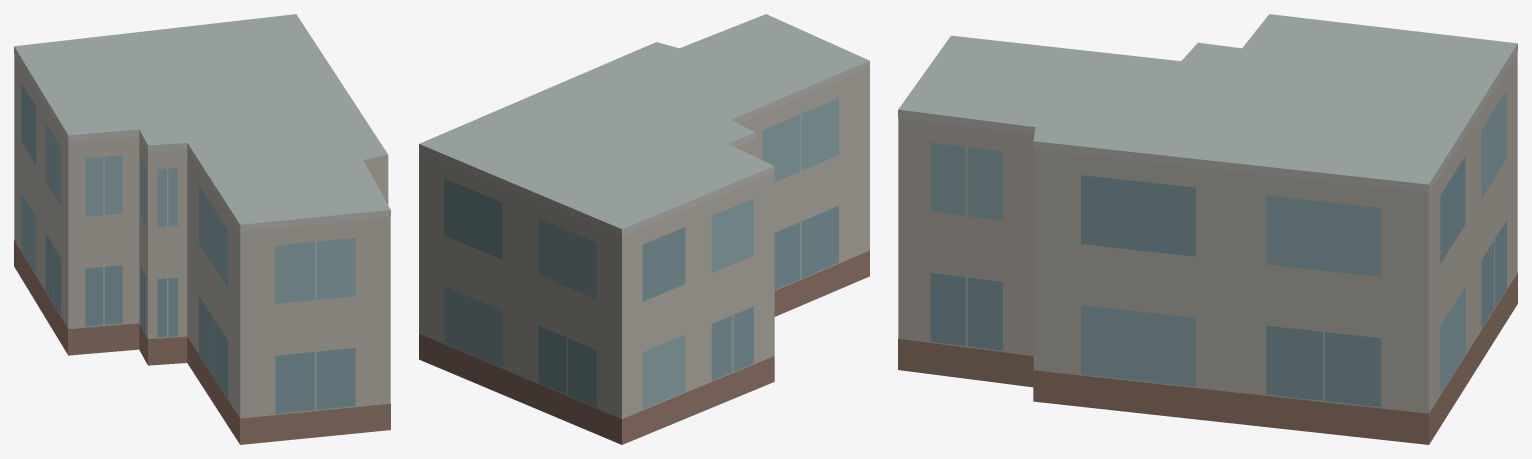
Rendered from survey-upis-32499124.glb.
3 renders of one model, left to right at view 1: azimuth 30°, elevation 25°; view 2: azimuth 150°, elevation 25°; view 3: azimuth 270°, elevation 25°, orthographic. The views are drawn at different scales.
Parts seen in each view (by area): view 1: survey-upis-32499124.tmp; view 2: survey-upis-32499124.tmp; view 3: survey-upis-32499124.tmp.
Part boxes in pixels (<box>): survey-upis-32499124.tmp: <box>14,14,390,444</box>; survey-upis-32499124.tmp: <box>419,14,869,444</box>; survey-upis-32499124.tmp: <box>898,14,1517,444</box>.
Bounding box in the file's own units: 11.11 × 7.9 × 17.05.
